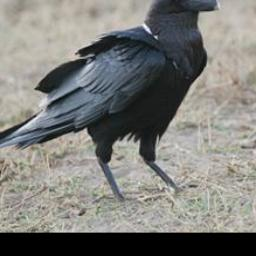Crow: (0, 0, 223, 203)
